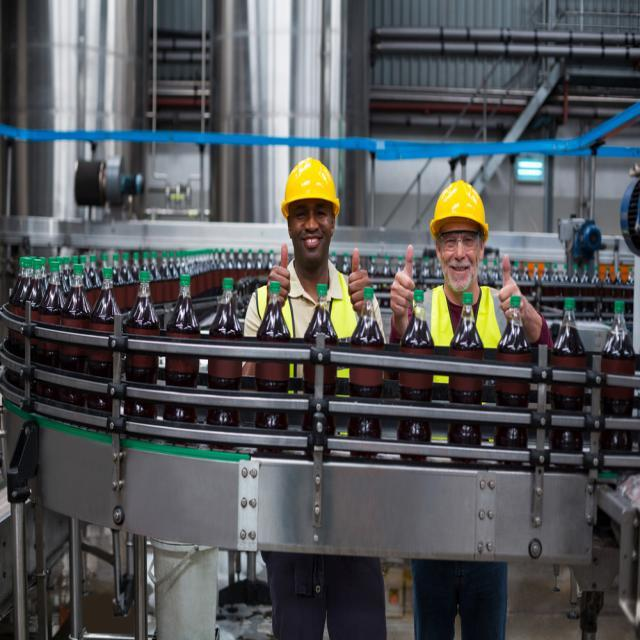reflective_jacket: (252, 263, 361, 397), (414, 281, 508, 350)
safety_helmet: (279, 154, 341, 213), (428, 176, 489, 235)
